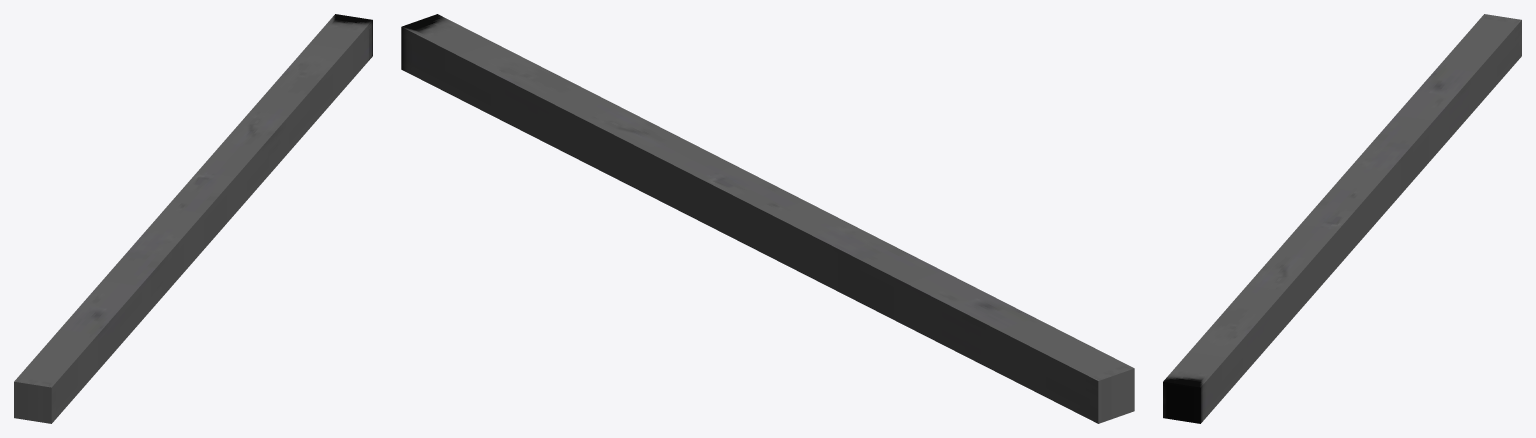
File: rear_brace__brace_rail_1.glb
3 renders of one model, left to right at view 1: azimuth 90°, elevation 25°; view 2: azimuth 150°, elevation 25°; view 3: azimuth 270°, elevation 25°, orthographic. The views are drawn at different scales.
Parts seen in each view (by area): view 1: geometry_0; view 2: geometry_0; view 3: geometry_0.
Part boxes in pixels (x1,y1,x2,y2): geometry_0: (14,14,372,423); geometry_0: (401,14,1134,423); geometry_0: (1163,14,1521,423).
Bounding box in the file's own units: 0.6604 × 0.03 × 0.2681.
Materials: 1 (1 with a texture image).
